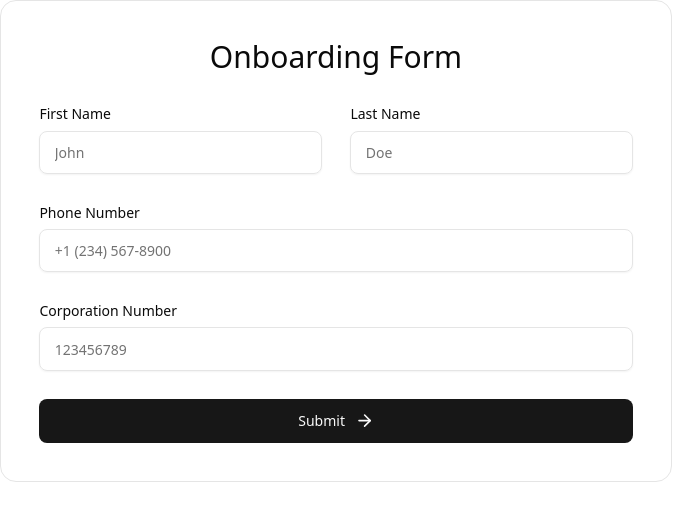
it: OnboardingForm › First Name Validation › should show error when first name is empty on blur
Click the field labelled "First Name".
click(180, 152)  # box 39,131 -> 322,174
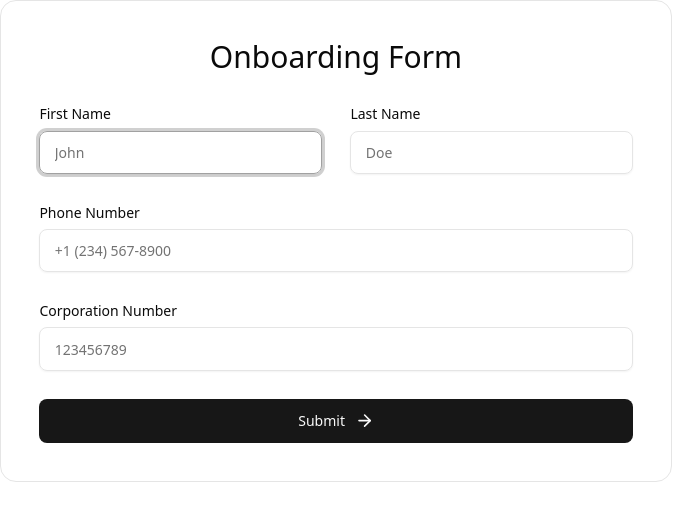
Press Tab
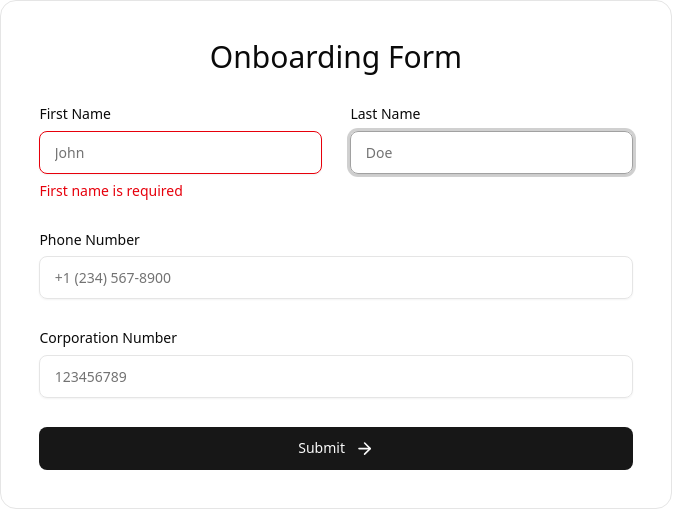
Check: the text "First name is required" is shown, box 39,181 -> 183,200
